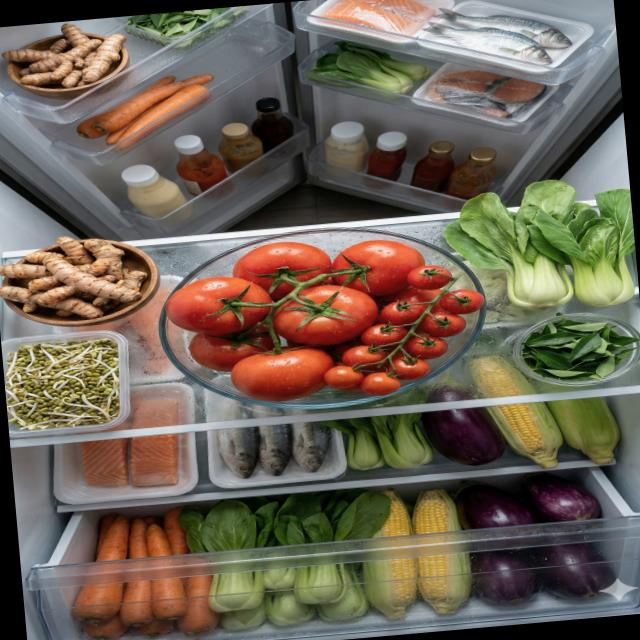carrot: (64, 503, 220, 640), (72, 72, 220, 156)
corn: (469, 344, 623, 474), (354, 483, 476, 622)
curry_leaves: (517, 304, 640, 388), (126, 5, 250, 54)
eggplant: (454, 466, 614, 610), (417, 368, 508, 470)
fish: (420, 0, 575, 76), (214, 388, 336, 482), (76, 396, 187, 493), (426, 64, 550, 125), (315, 0, 437, 43)
pakchoy: (176, 484, 401, 634), (438, 172, 640, 320), (304, 32, 435, 106), (318, 411, 436, 476)
tomato: (158, 224, 494, 413)
turmeric: (0, 228, 152, 326), (0, 17, 131, 93)
